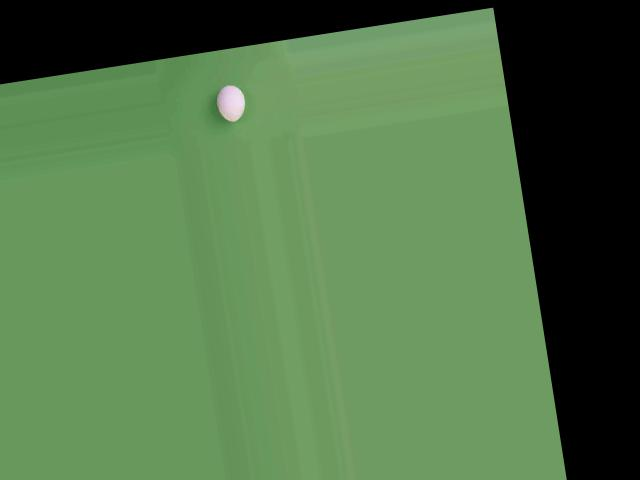egg: (214, 82, 248, 123)
